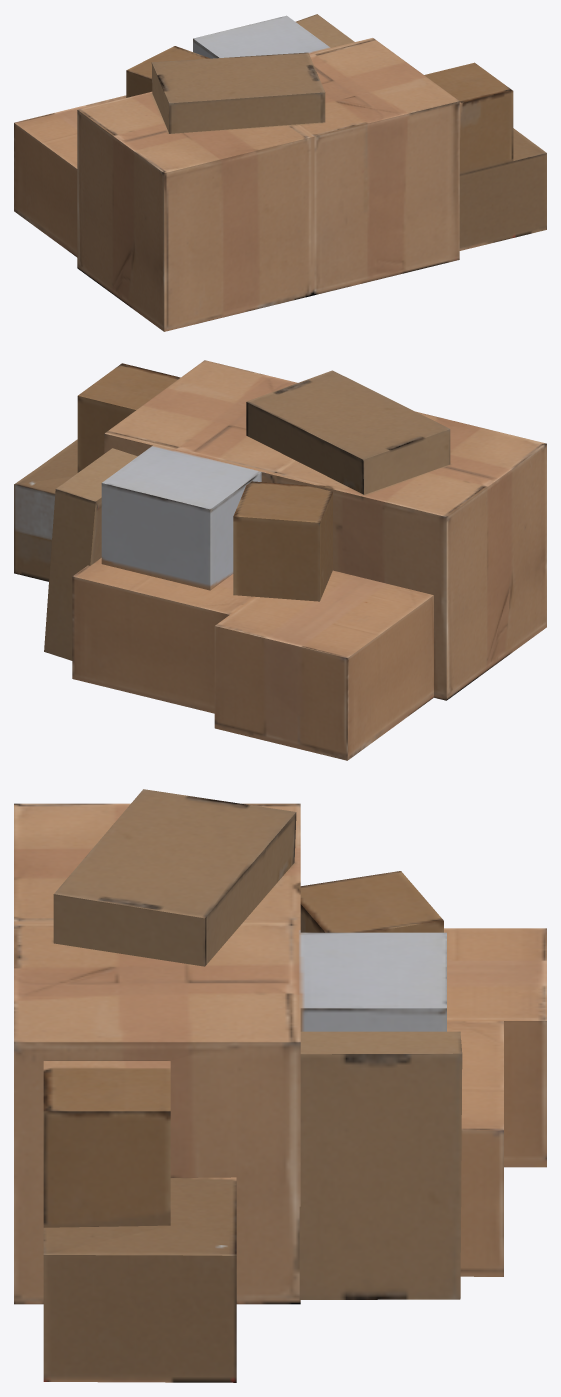
File: cardboard-box-set--low-poly-5d3d50.glb
3 views of the same model, one above another, from view 1: azimuth 30°, elevation 25°; view 2: azimuth 150°, elevation 25°; view 3: azimuth 270°, elevation 25° (orthographic). The views are drawn at different scales.
Parts seen in each view (by area): view 1: PropMesh; view 2: PropMesh; view 3: PropMesh.
Part boxes in pixels (box(x1,y1,x2,y2)): PropMesh: box(14, 14, 546, 331); PropMesh: box(14, 360, 546, 760); PropMesh: box(14, 789, 546, 1382).
Bounding box in the file's own units: 2.17 × 1 × 1.54.
Materials: 1 (1 with a texture image).
